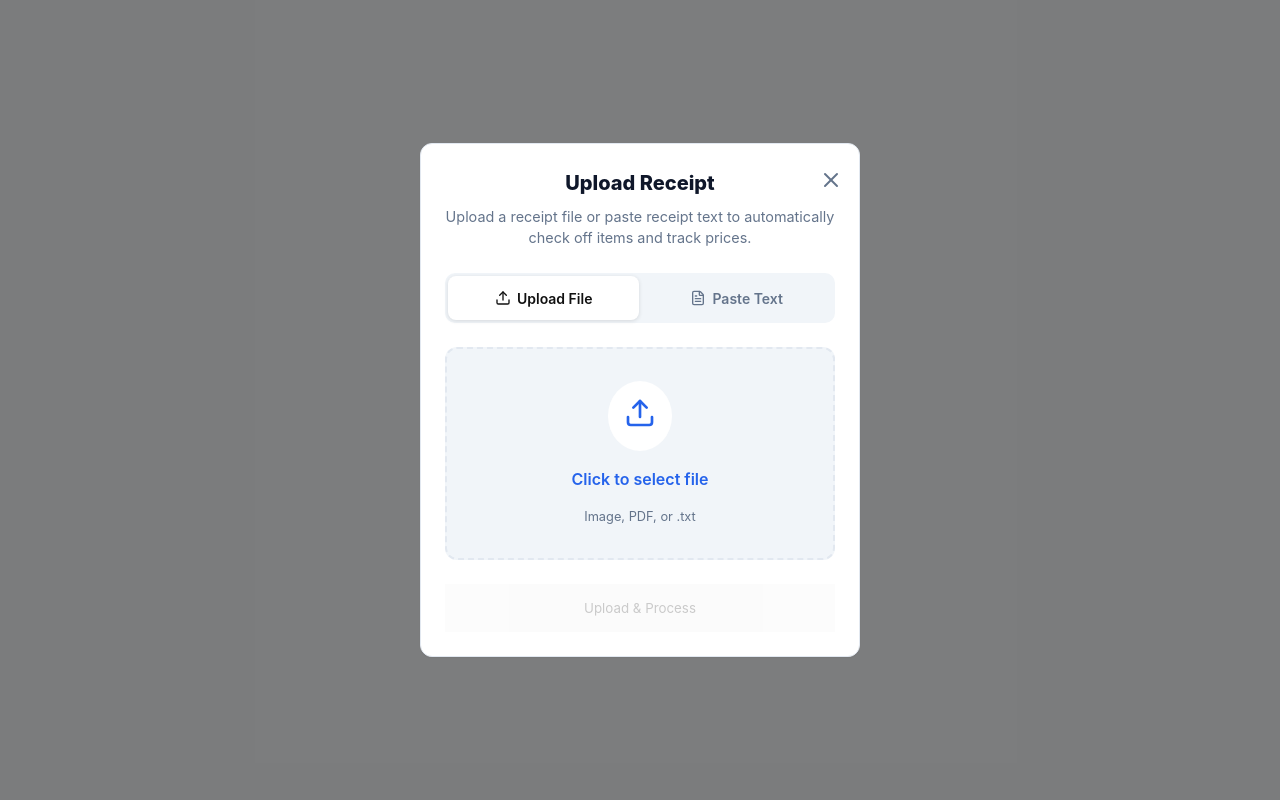
ReceiptUploadModal › switches back to Upload mode from Paste mode
The width and height of the screenshot is (1280, 800).
Click the button with test id "tab-paste" at (736, 298), box [641, 276, 832, 320]
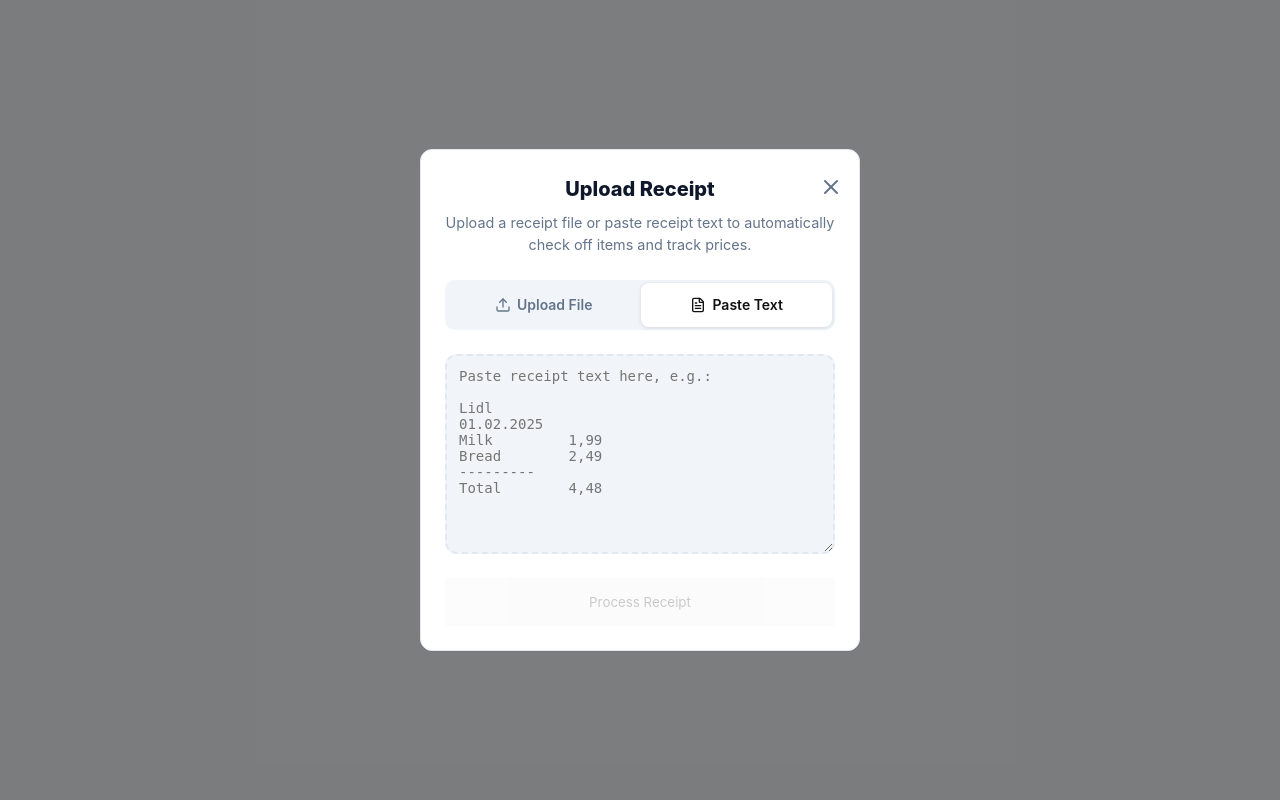
Click the button with test id "tab-upload" at (544, 305), box [448, 283, 639, 327]
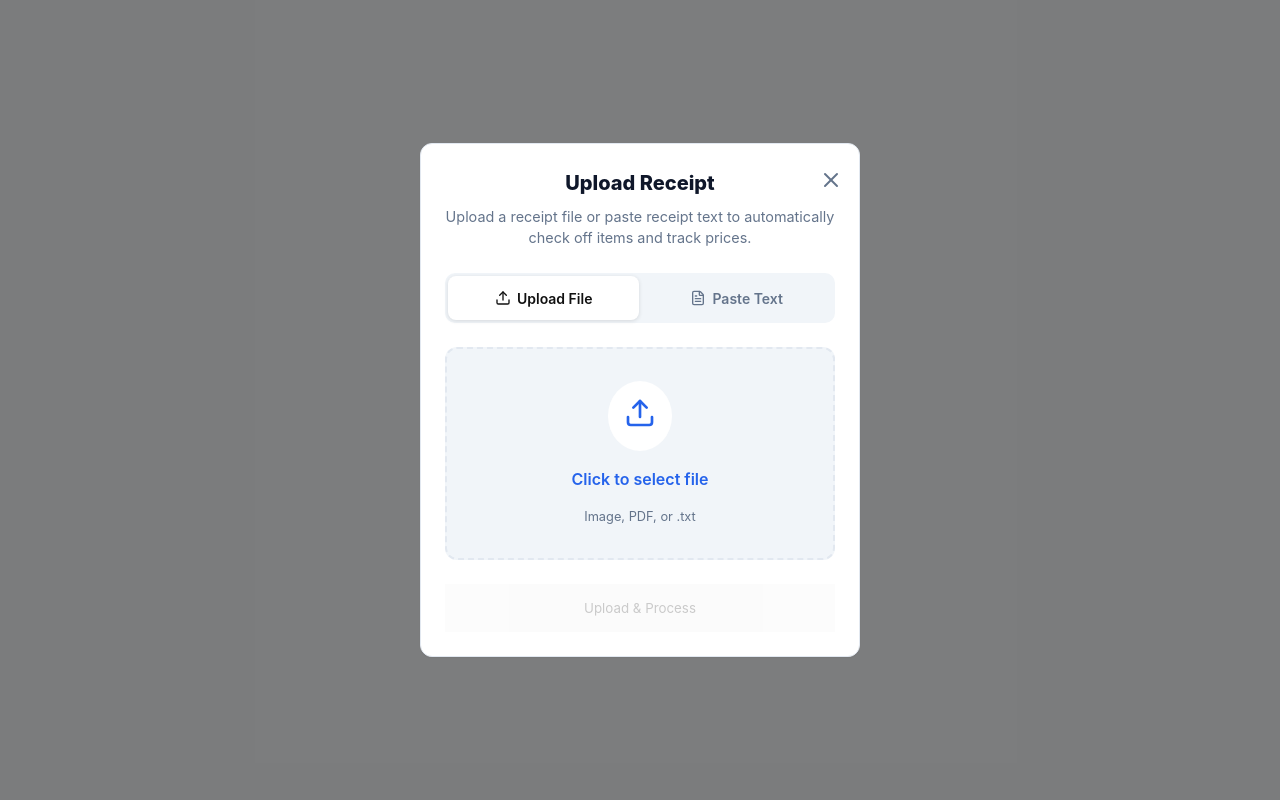
Expected: the text box with test id "receipt-textarea" is gone
Expected: the element with id "receipt-input" is shown, [445, 347, 835, 560]
